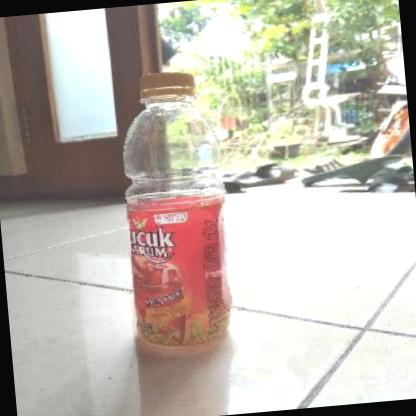plastic_bottles: (108, 64, 240, 366)
